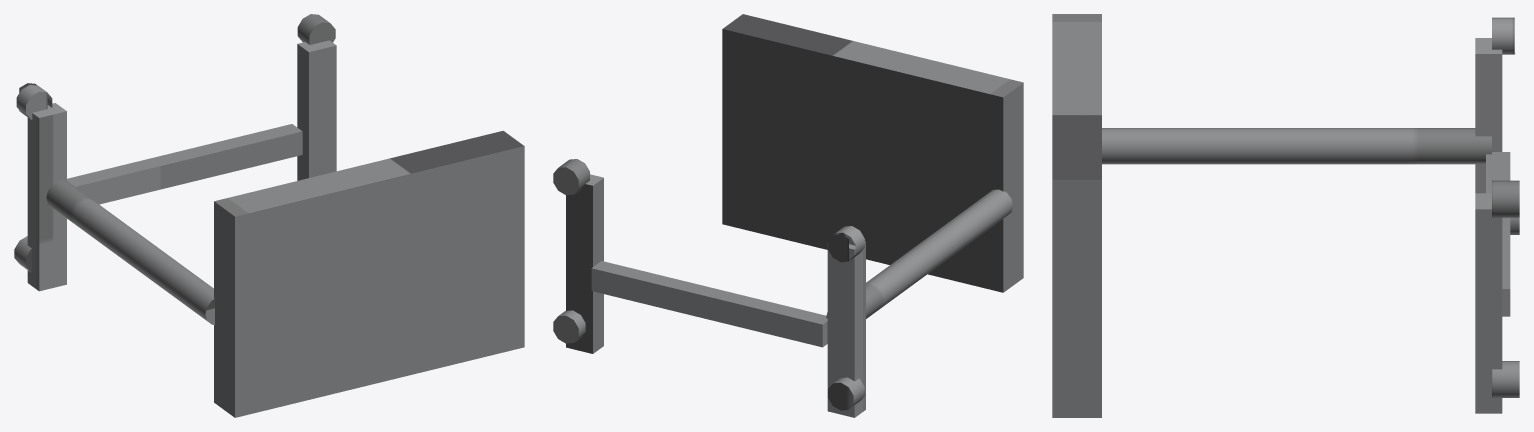
3 renders of one model, left to right at view 1: azimuth 30°, elevation 25°; view 2: azimuth 150°, elevation 25°; view 3: azimuth 270°, elevation 25°, orthographic. The views are drawn at different scales.
Bounding box in the file's own units: 0.6943 × 0.4293 × 0.763.
